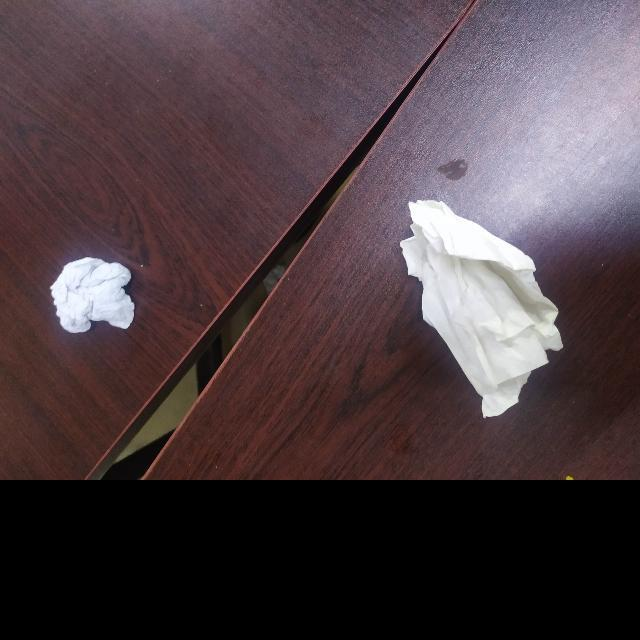kitchen paper: (398, 195, 568, 424), (48, 254, 140, 338)
